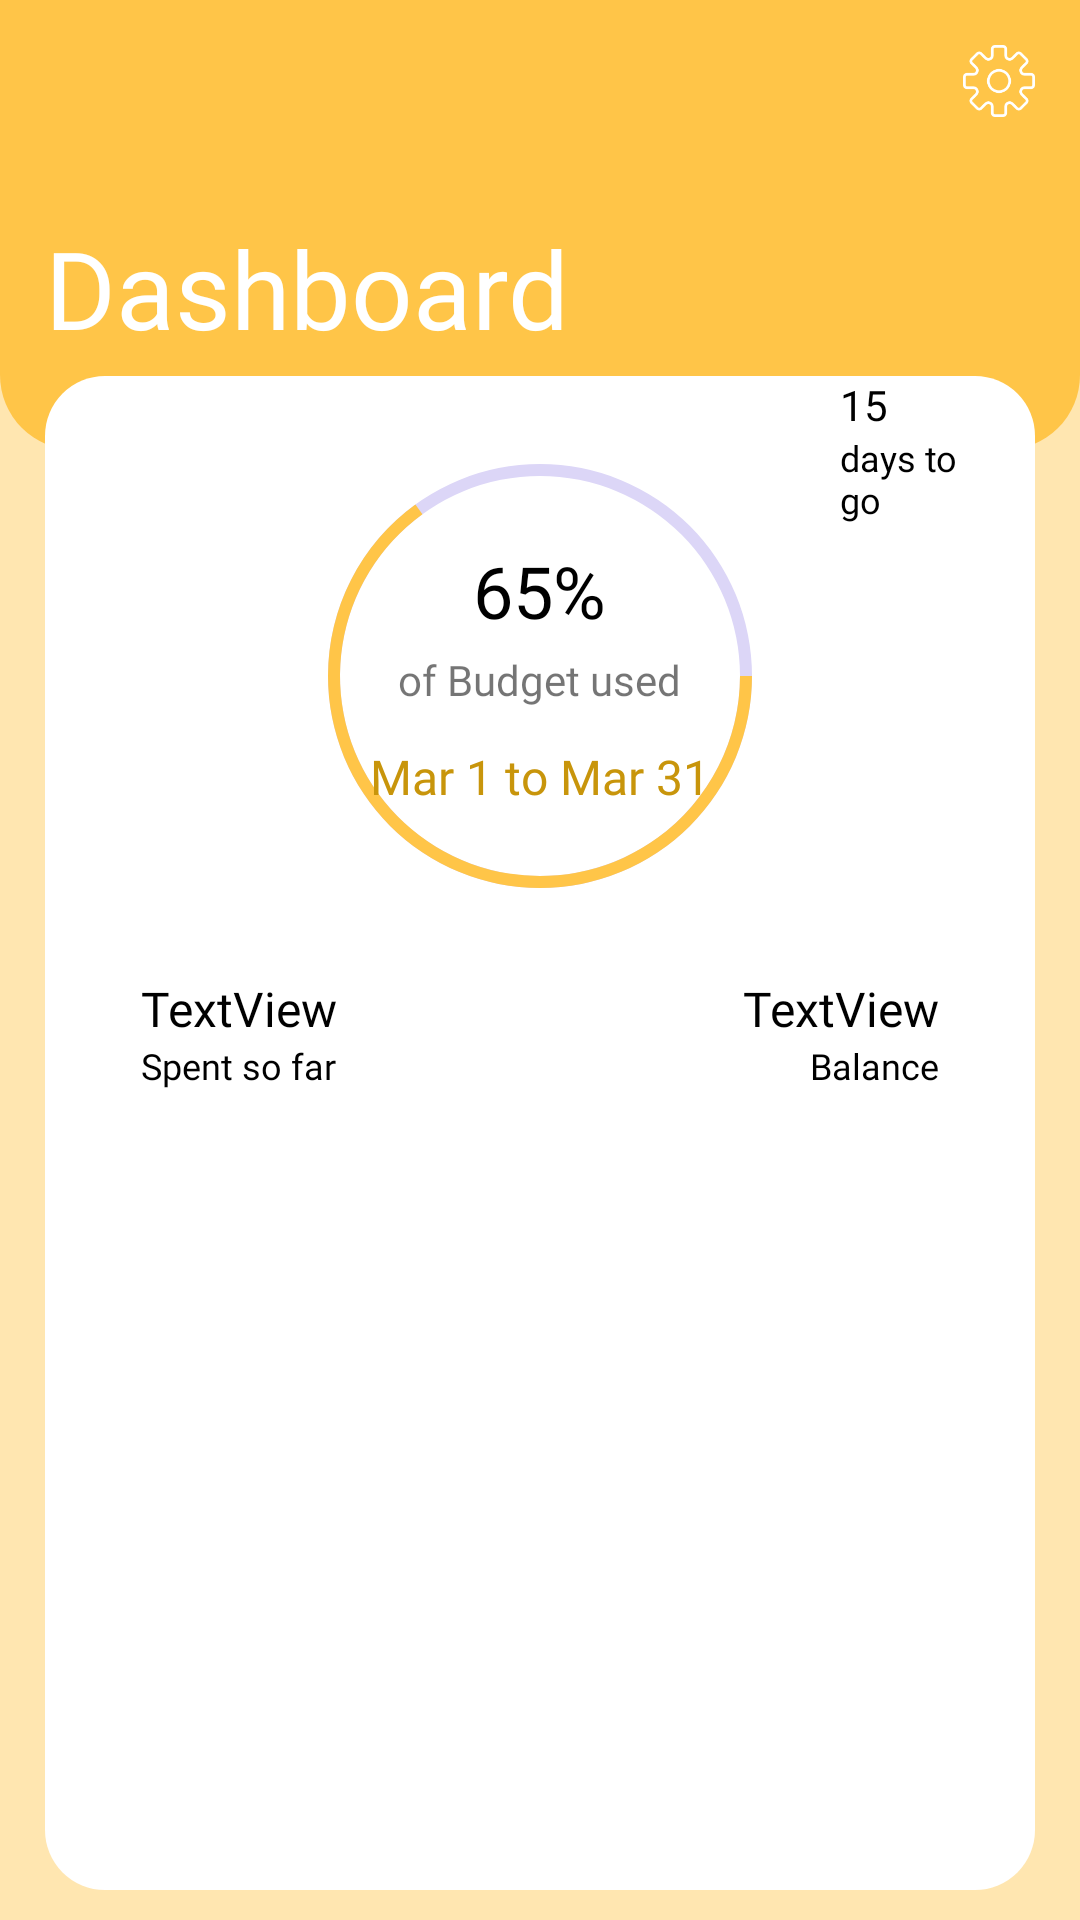

Icons on this 1080w x 1920h Android screen, each with the point to tap as point (x, y):
settings: point (999, 81)
